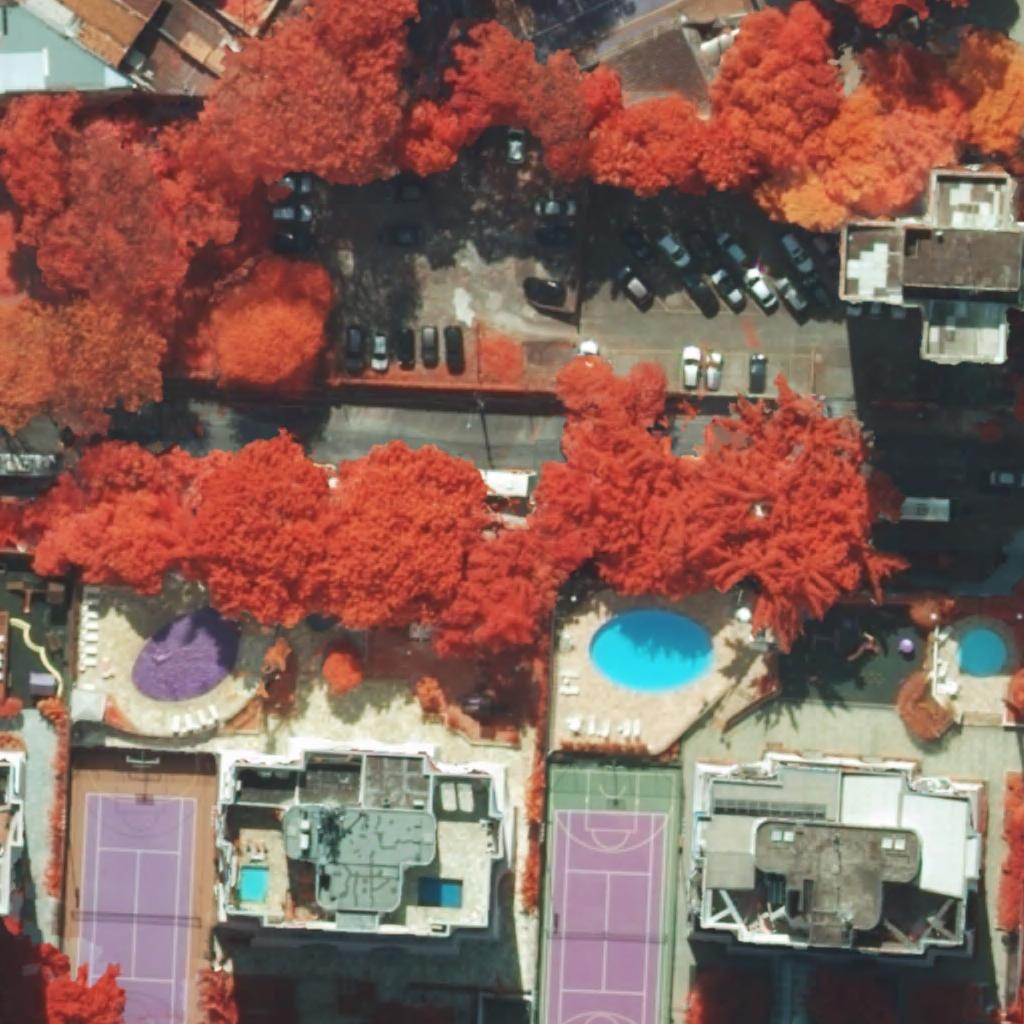pool: (589, 609, 715, 691), (131, 607, 239, 702), (955, 628, 1007, 679), (417, 878, 464, 909), (237, 867, 269, 902)
